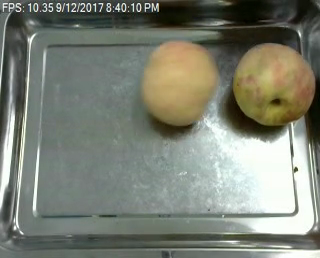Peach: (232, 41, 315, 127), (140, 40, 219, 126)
